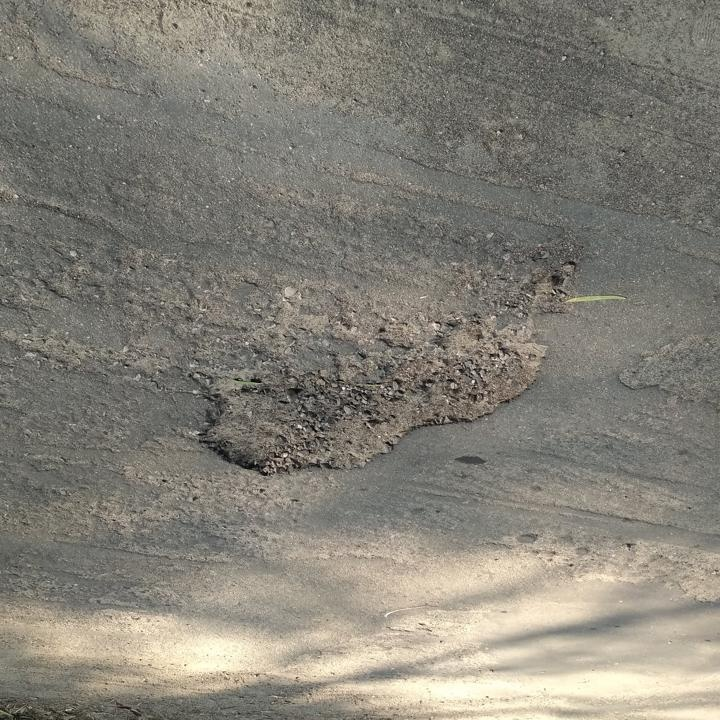pothole: (188, 316, 553, 481)
